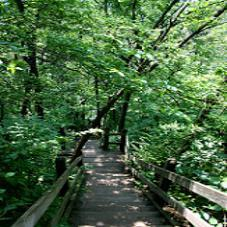Bench: (46, 145, 184, 224)
